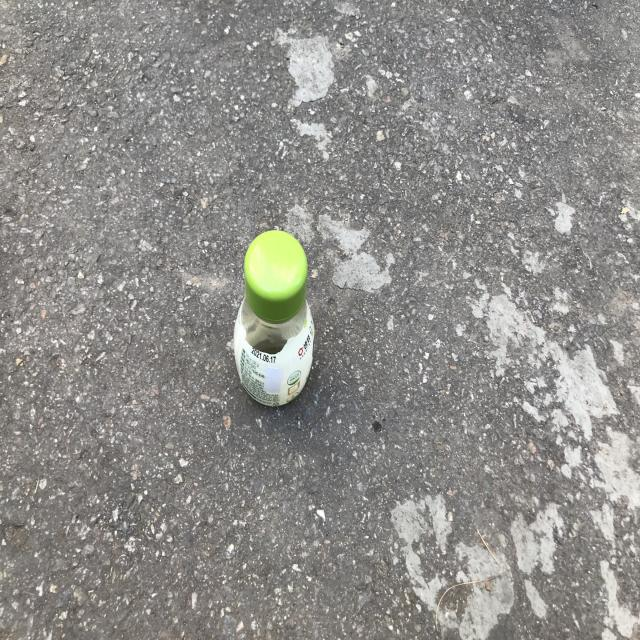glass: (234, 229, 314, 406)
